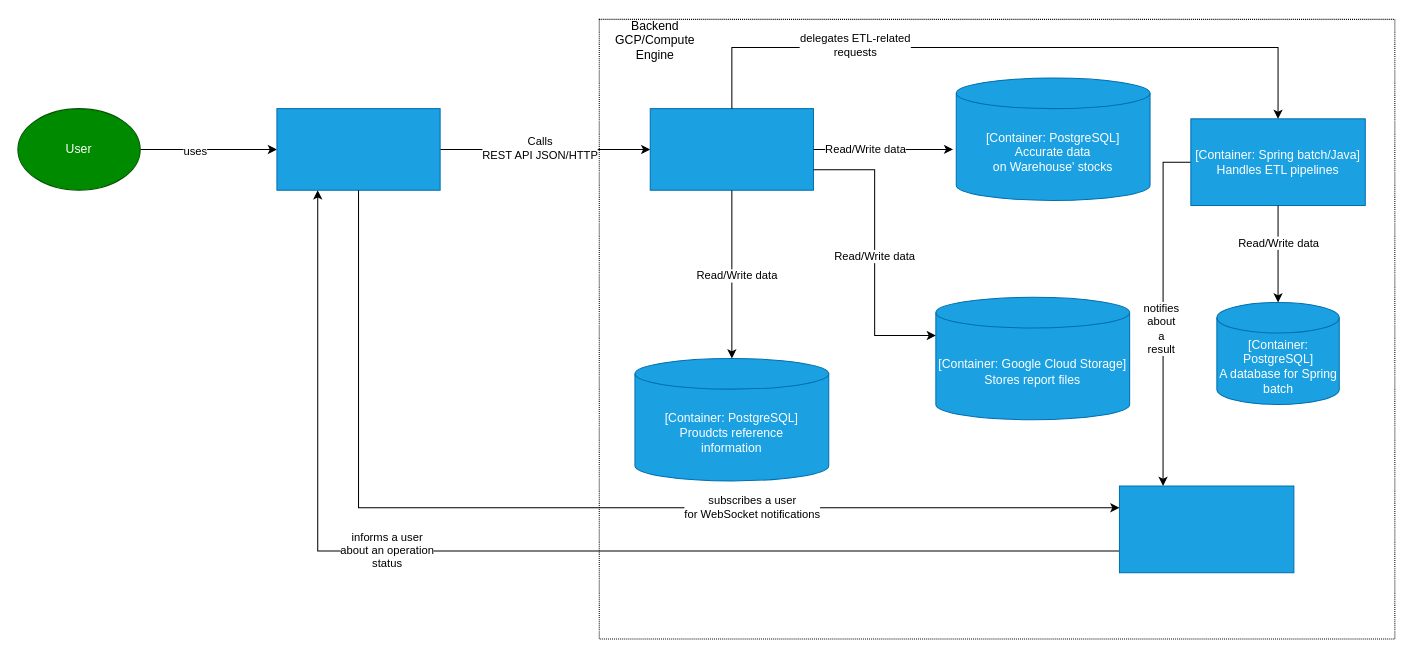
The diagram is 1413 pixels wide and 657 high, and some of its shapes have lost their labels. The centre of each missing label's shape, as x and y in pixels:
[Component: WildFly, Java] A server for a Java app handling reports: point (731, 149)
[Container: FastAPI/Python] Notification service: point (1206, 529)
UI [Container: Angular] Single-page web app: point (358, 149)
